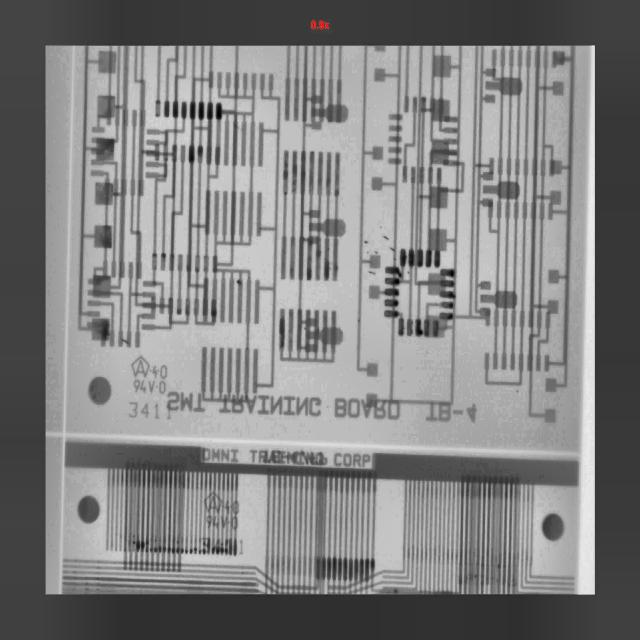L1: (377, 45, 490, 405), (324, 477, 466, 633), (323, 478, 452, 621), (481, 483, 576, 611), (549, 45, 575, 387), (254, 90, 281, 388), (516, 483, 576, 594), (371, 477, 426, 596), (356, 45, 374, 372), (187, 45, 210, 288), (296, 46, 314, 350), (525, 485, 575, 586), (381, 477, 423, 591), (155, 118, 177, 330), (529, 485, 575, 580), (414, 46, 432, 286), (78, 45, 90, 315), (382, 477, 412, 580), (213, 236, 252, 280), (123, 196, 148, 264), (217, 88, 255, 122), (487, 218, 501, 310), (71, 492, 106, 527), (492, 66, 505, 158), (542, 68, 554, 160), (264, 469, 272, 595), (301, 470, 309, 594), (312, 472, 320, 594), (100, 291, 123, 331), (308, 216, 347, 239), (270, 468, 277, 594), (297, 470, 304, 595), (286, 470, 293, 594), (161, 464, 169, 572), (127, 278, 143, 332), (307, 472, 314, 595), (318, 472, 325, 595), (133, 45, 146, 110), (449, 480, 456, 595), (87, 375, 112, 406), (541, 512, 566, 543), (177, 464, 184, 573), (171, 464, 178, 572), (281, 469, 287, 595), (530, 327, 556, 356), (276, 470, 282, 595), (292, 470, 298, 595), (139, 464, 146, 571), (511, 219, 519, 311), (532, 67, 540, 158), (424, 480, 430, 595), (428, 480, 434, 595), (437, 480, 443, 595), (441, 480, 447, 595), (445, 480, 451, 595), (432, 481, 438, 595), (454, 480, 460, 594), (311, 104, 349, 122), (458, 482, 464, 594), (306, 327, 343, 345), (484, 370, 523, 387), (520, 219, 527, 312), (529, 219, 536, 312), (145, 463, 151, 571), (167, 464, 173, 572), (123, 462, 129, 570), (515, 67, 522, 159), (537, 221, 544, 312), (524, 68, 531, 159), (503, 220, 510, 310), (512, 484, 517, 594), (507, 67, 513, 158), (134, 463, 139, 571), (150, 464, 155, 571), (156, 464, 161, 571), (129, 464, 134, 570), (201, 392, 248, 403), (87, 322, 106, 347), (119, 196, 126, 262), (99, 302, 115, 330), (426, 315, 446, 337), (431, 99, 450, 122), (429, 186, 448, 208), (428, 273, 446, 296), (433, 55, 451, 78), (429, 229, 447, 251), (432, 142, 449, 165), (123, 46, 129, 109), (528, 328, 541, 354), (104, 195, 109, 260), (112, 196, 117, 261), (138, 127, 144, 180), (116, 45, 121, 108), (222, 191, 228, 237), (213, 191, 219, 237), (232, 121, 238, 166), (258, 122, 264, 167), (215, 121, 221, 166), (239, 192, 245, 237), (131, 127, 136, 180), (256, 192, 262, 236), (254, 280, 260, 324), (237, 280, 243, 324), (108, 46, 112, 109), (104, 127, 119, 143), (252, 347, 257, 395), (104, 161, 118, 178), (246, 277, 251, 324), (241, 121, 246, 167), (250, 121, 255, 167), (207, 119, 212, 165), (248, 191, 253, 237), (231, 191, 236, 237), (229, 277, 234, 323), (203, 276, 208, 322), (224, 121, 229, 166), (220, 278, 225, 323), (212, 277, 217, 322), (205, 190, 210, 234), (228, 347, 232, 394), (245, 347, 249, 394), (219, 347, 223, 393), (236, 347, 240, 393), (202, 347, 206, 392), (211, 348, 215, 393), (545, 378, 557, 392), (366, 363, 378, 377), (370, 255, 381, 269), (371, 177, 382, 191), (374, 68, 385, 82), (303, 236, 322, 244), (369, 286, 380, 299), (158, 163, 167, 178), (159, 130, 168, 145), (506, 176, 511, 203), (540, 176, 545, 203), (532, 176, 537, 203), (502, 327, 507, 353), (511, 327, 516, 353), (519, 327, 524, 353), (373, 147, 383, 160), (302, 319, 318, 327), (306, 121, 322, 129), (515, 176, 520, 201), (523, 177, 528, 202), (93, 267, 103, 279), (97, 115, 107, 127), (135, 314, 142, 331), (484, 352, 490, 370), (544, 354, 550, 372), (104, 178, 110, 196), (122, 109, 128, 127), (494, 327, 498, 353), (119, 261, 125, 278), (138, 180, 144, 197), (88, 278, 102, 285), (146, 150, 160, 157), (91, 159, 105, 166), (91, 137, 105, 144), (305, 344, 317, 352), (136, 263, 142, 279), (535, 50, 540, 69), (121, 178, 126, 197), (115, 108, 120, 127), (88, 289, 101, 296), (143, 280, 156, 287), (92, 126, 105, 133), (528, 354, 533, 372), (520, 310, 525, 328), (548, 202, 553, 220), (492, 49, 497, 67), (103, 260, 108, 278), (130, 179, 135, 197), (507, 156, 511, 178), (312, 96, 323, 104), (502, 353, 507, 370), (489, 157, 494, 174), (209, 71, 214, 88), (135, 330, 140, 347), (118, 330, 123, 347), (111, 261, 116, 278), (132, 110, 137, 127), (140, 110, 145, 127), (141, 324, 155, 330), (87, 300, 101, 306), (142, 292, 156, 298), (91, 170, 105, 176), (537, 309, 541, 329), (540, 202, 544, 222), (541, 158, 545, 178), (544, 50, 548, 70), (309, 210, 319, 218), (251, 74, 256, 90), (127, 331, 132, 347), (110, 330, 115, 346), (114, 177, 118, 197), (87, 311, 100, 317), (145, 172, 158, 178), (146, 161, 159, 167), (147, 129, 160, 135), (91, 149, 104, 155), (519, 354, 523, 373), (503, 309, 507, 328), (523, 202, 527, 221), (514, 201, 518, 220), (498, 157, 502, 176), (524, 158, 528, 177), (533, 158, 537, 177), (498, 176, 501, 201), (250, 167, 253, 191), (537, 354, 541, 372), (532, 202, 536, 220), (497, 201, 501, 219), (489, 201, 493, 219), (501, 49, 505, 67), (527, 50, 531, 68), (375, 45, 385, 52), (142, 303, 156, 308), (146, 140, 160, 145), (246, 324, 249, 347), (493, 353, 497, 370), (546, 312, 550, 329), (506, 203, 510, 220), (550, 159, 554, 176), (518, 50, 522, 67), (226, 72, 230, 89), (235, 73, 239, 90), (243, 73, 247, 90), (269, 74, 273, 91), (142, 314, 155, 319), (511, 354, 515, 370), (260, 74, 264, 90), (129, 262, 133, 278), (107, 109, 111, 125), (516, 158, 519, 178), (510, 49, 513, 67), (218, 72, 221, 90), (495, 310, 498, 327), (512, 311, 515, 327), (449, 150, 457, 155), (105, 172, 109, 179), (544, 45, 548, 51), (518, 45, 522, 51), (536, 46, 540, 51), (527, 45, 531, 50), (509, 46, 514, 50), (501, 46, 505, 49)
L2: (370, 472, 465, 595), (526, 45, 554, 418), (61, 560, 316, 600), (62, 557, 320, 591), (555, 45, 577, 388), (78, 45, 100, 333), (134, 45, 154, 307), (217, 45, 239, 266), (111, 45, 127, 289), (474, 46, 487, 313), (61, 581, 270, 595), (153, 161, 182, 254), (436, 161, 465, 251), (61, 575, 260, 587), (62, 564, 257, 576), (61, 587, 256, 598), (149, 161, 168, 254), (465, 476, 477, 595), (170, 162, 185, 254), (204, 165, 219, 256), (83, 373, 116, 408), (337, 471, 345, 595), (348, 472, 356, 595), (342, 472, 350, 595), (479, 476, 487, 595), (496, 477, 504, 595), (417, 281, 440, 320), (332, 471, 339, 595), (327, 471, 334, 595), (359, 472, 366, 595), (354, 472, 361, 595), (321, 472, 328, 595), (173, 45, 188, 102), (463, 475, 470, 595), (490, 476, 497, 595), (475, 476, 482, 595), (159, 118, 191, 144), (513, 476, 520, 594), (485, 477, 492, 595), (398, 266, 413, 319), (421, 114, 444, 148), (484, 76, 523, 96), (541, 512, 566, 543), (316, 470, 322, 595), (365, 472, 371, 595), (165, 45, 178, 101), (279, 351, 335, 364), (502, 476, 508, 595), (507, 478, 513, 595), (76, 495, 100, 524), (404, 114, 417, 167), (482, 181, 520, 199), (86, 137, 114, 161), (480, 290, 517, 308), (187, 162, 194, 254), (193, 470, 200, 554), (233, 473, 240, 556), (201, 473, 208, 555), (196, 163, 202, 255), (198, 470, 204, 555), (185, 470, 191, 555), (180, 470, 186, 555), (145, 468, 151, 553), (136, 468, 142, 553), (105, 468, 111, 552), (189, 470, 195, 554), (114, 468, 120, 551), (224, 473, 230, 556), (220, 473, 226, 556), (176, 471, 182, 554), (171, 470, 177, 553), (167, 470, 173, 553), (158, 470, 164, 553), (123, 469, 129, 552), (211, 473, 217, 555), (98, 51, 117, 74), (141, 468, 146, 553), (110, 468, 115, 552), (229, 473, 234, 557), (91, 319, 110, 341), (119, 469, 124, 552), (163, 470, 168, 553), (154, 470, 159, 553), (150, 470, 155, 553), (128, 469, 133, 552), (95, 182, 113, 205), (94, 225, 112, 248), (216, 473, 221, 555), (207, 473, 212, 555), (132, 470, 137, 552), (93, 276, 111, 298), (97, 96, 115, 117), (439, 116, 459, 134), (151, 270, 163, 298), (156, 45, 162, 101), (427, 185, 432, 250), (418, 185, 423, 250), (308, 151, 315, 197), (410, 183, 415, 247), (316, 195, 322, 243), (208, 45, 213, 102), (283, 150, 289, 195), (290, 236, 296, 280), (300, 151, 306, 195), (285, 77, 291, 121), (302, 78, 308, 122), (420, 115, 425, 167), (281, 236, 287, 279), (425, 303, 440, 320), (429, 150, 444, 167), (315, 239, 321, 281), (327, 81, 333, 122), (195, 315, 216, 326), (192, 45, 196, 102), (335, 152, 340, 197), (200, 46, 204, 102), (169, 314, 189, 325), (282, 193, 287, 237), (318, 152, 323, 196), (326, 151, 331, 195), (319, 79, 324, 123), (331, 311, 336, 354), (314, 310, 319, 353), (305, 310, 310, 353), (324, 238, 329, 281), (292, 151, 297, 194), (337, 80, 342, 123), (333, 239, 338, 281), (294, 79, 299, 121), (311, 80, 316, 122), (405, 45, 409, 97), (431, 45, 435, 97), (440, 45, 444, 97), (307, 240, 312, 281), (325, 192, 329, 243), (329, 45, 334, 84), (303, 45, 308, 83), (320, 46, 325, 83), (334, 196, 338, 242), (309, 196, 313, 241), (280, 308, 284, 353), (292, 193, 296, 237), (323, 311, 327, 355), (551, 159, 562, 175), (312, 45, 317, 80), (207, 118, 213, 147), (300, 195, 304, 238), (289, 309, 293, 352), (297, 309, 301, 352), (553, 81, 564, 96), (295, 45, 299, 84), (550, 191, 561, 205), (287, 46, 291, 84), (338, 46, 342, 83), (545, 410, 556, 423), (548, 301, 559, 314), (548, 270, 559, 283), (203, 272, 208, 300), (203, 272, 208, 300), (203, 272, 208, 300), (186, 271, 191, 299), (190, 119, 195, 146), (554, 51, 564, 64), (416, 319, 423, 336), (400, 248, 406, 267), (178, 270, 182, 298), (199, 119, 203, 147), (385, 277, 399, 285), (384, 299, 398, 307), (438, 319, 447, 331), (207, 102, 213, 120), (417, 250, 423, 267), (407, 319, 413, 336), (190, 102, 196, 119), (203, 255, 209, 272), (159, 297, 165, 314), (195, 273, 199, 298), (409, 247, 414, 267), (480, 281, 491, 290), (385, 267, 399, 274), (385, 289, 399, 296), (441, 269, 455, 276), (440, 291, 454, 298), (388, 158, 402, 165), (479, 308, 491, 316), (163, 143, 168, 162), (194, 298, 199, 317), (384, 311, 399, 317), (421, 97, 426, 115), (485, 94, 495, 103), (483, 198, 493, 207), (215, 147, 220, 165), (198, 146, 203, 164), (189, 145, 194, 163), (199, 102, 204, 120), (161, 253, 166, 271), (169, 253, 174, 271), (178, 254, 183, 272), (195, 255, 200, 273), (211, 299, 216, 317), (483, 172, 494, 180), (435, 250, 440, 267), (433, 320, 438, 337), (155, 100, 160, 117), (152, 253, 157, 270), (187, 254, 192, 271), (186, 298, 191, 315), (203, 300, 208, 317), (440, 302, 454, 308), (439, 313, 453, 319), (389, 114, 403, 120), (389, 125, 403, 131), (389, 136, 403, 142), (388, 147, 402, 153), (444, 116, 458, 122), (444, 139, 458, 145), (443, 149, 457, 155), (399, 319, 404, 335), (439, 96, 443, 116), (173, 101, 178, 117), (217, 103, 222, 119), (168, 298, 173, 314), (441, 280, 454, 286), (420, 167, 424, 186), (426, 251, 431, 266), (444, 161, 456, 167), (207, 147, 211, 165), (181, 145, 185, 163), (173, 145, 177, 163), (155, 143, 159, 161), (213, 255, 217, 273), (151, 296, 155, 314), (486, 69, 496, 76), (425, 319, 429, 336), (403, 166, 407, 183), (437, 168, 441, 185), (413, 97, 417, 114), (430, 97, 434, 114), (182, 102, 186, 119), (177, 298, 181, 315), (411, 167, 415, 183), (165, 101, 169, 117), (429, 166, 432, 186), (405, 97, 408, 112)
